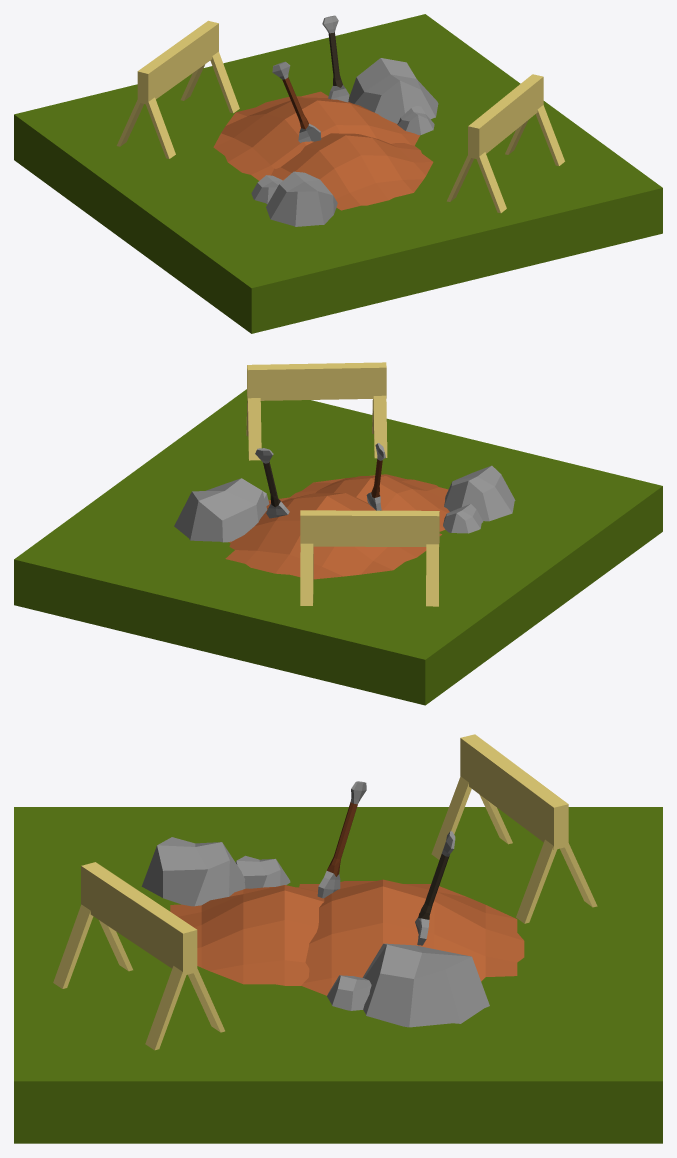
File: construção.fbx
3 views of the same model, one above another, from view 1: azimuth 30°, elevation 25°; view 2: azimuth 150°, elevation 25°; view 3: azimuth 270°, elevation 25° (orthographic). The views are drawn at different scales.
Parts seen in each view (by area): view 1: construção; view 2: construção; view 3: construção.
Part boxes in pixels (x1=…): construção: x1=14, y1=14, x2=662, y2=333; construção: x1=14, y1=362, x2=662, y2=705; construção: x1=14, y1=734, x2=662, y2=1143.
Size of the model in its own units: 199 by 65.73 by 199.
